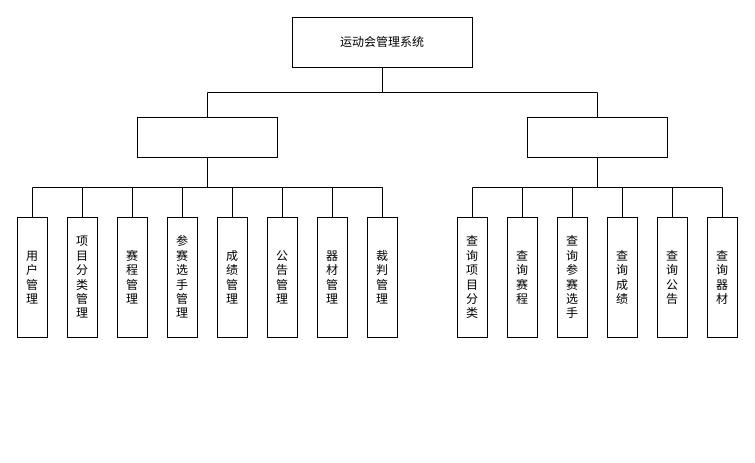
This 755x463 diagram has some shape labels left out. The shapes that lost their labels are listed below. From the top down, each one's centre as x and y in pixels, then its label:
[207,137]: 管理员
[597,137]: 普通用户
